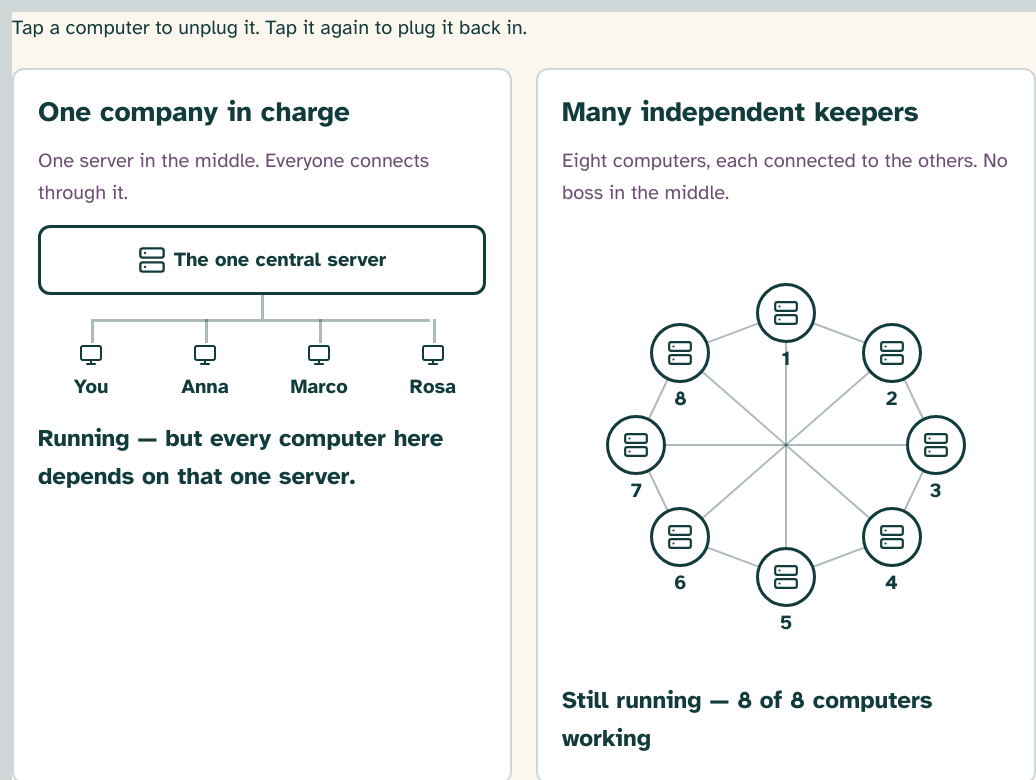
Test: NodeNetworkSim › marks unplugged nodes visibly and lets each be restored on its own
The image size is (1036, 780).
Click the button with class "mesh__node" showing "3": (936, 445) [906,415,966,475]
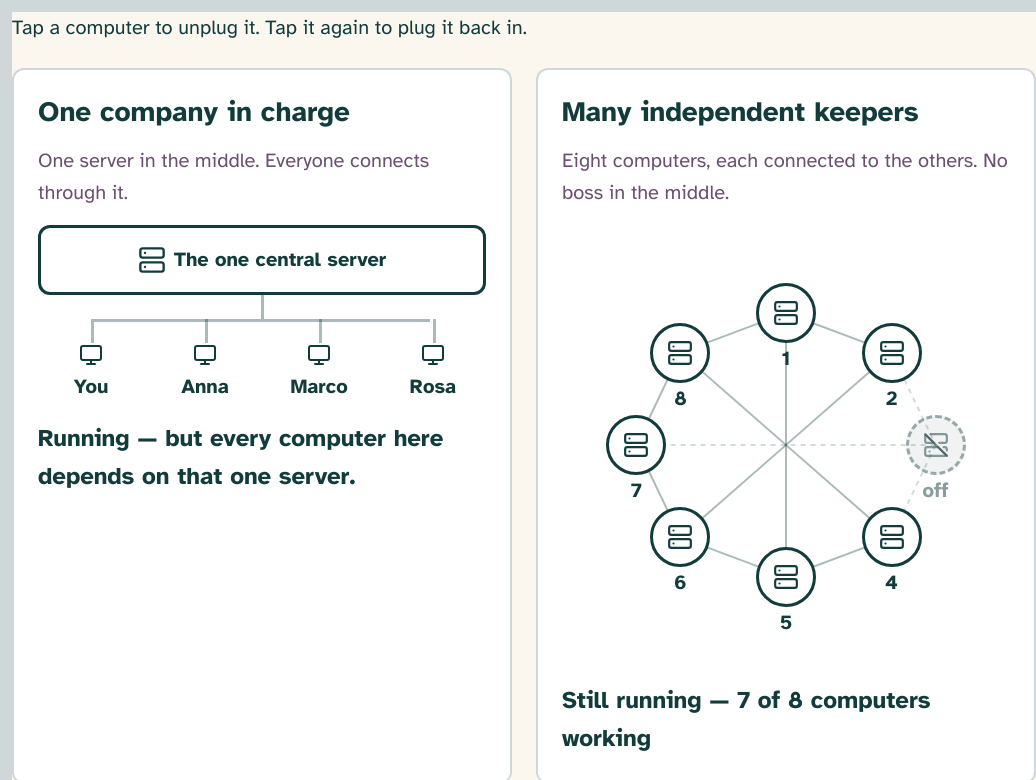
Expected: the button with class "mesh__node" reads "off"
Click the button with class "mesh__node" showing "off": (936, 445) [906,415,966,475]
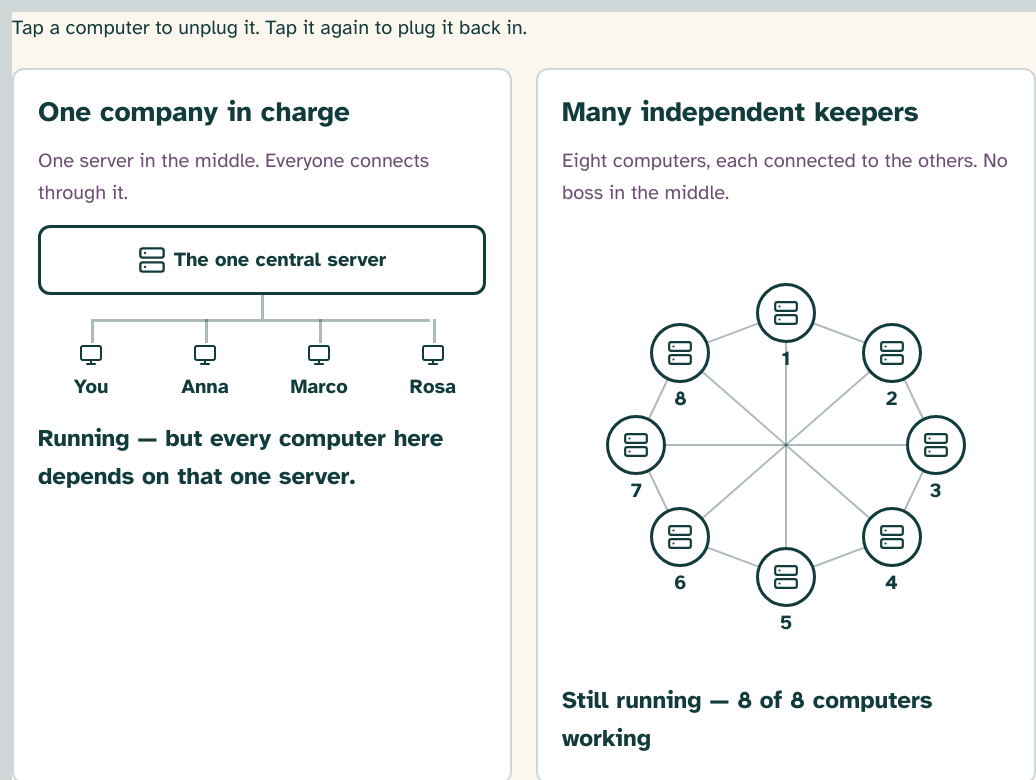
Expected: the text with class "network-panel__status" reads "Still running — 8 of 8 computers working", [562,685,933,753]
